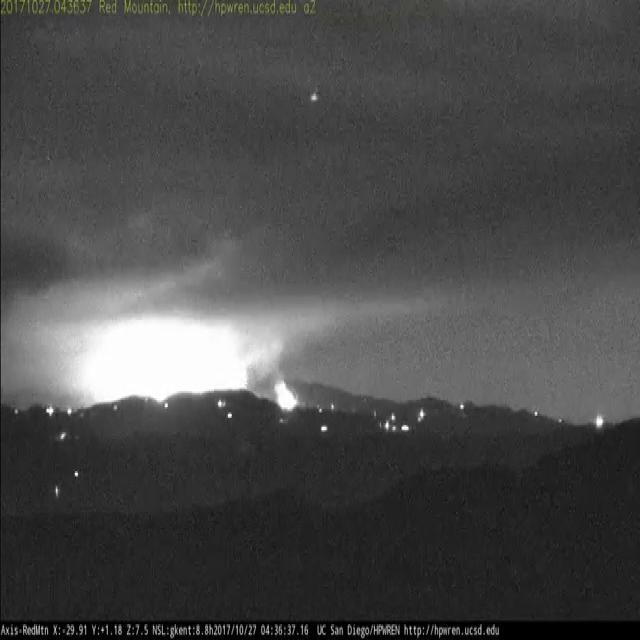Fire: (82, 316, 244, 402), (276, 379, 291, 407)
